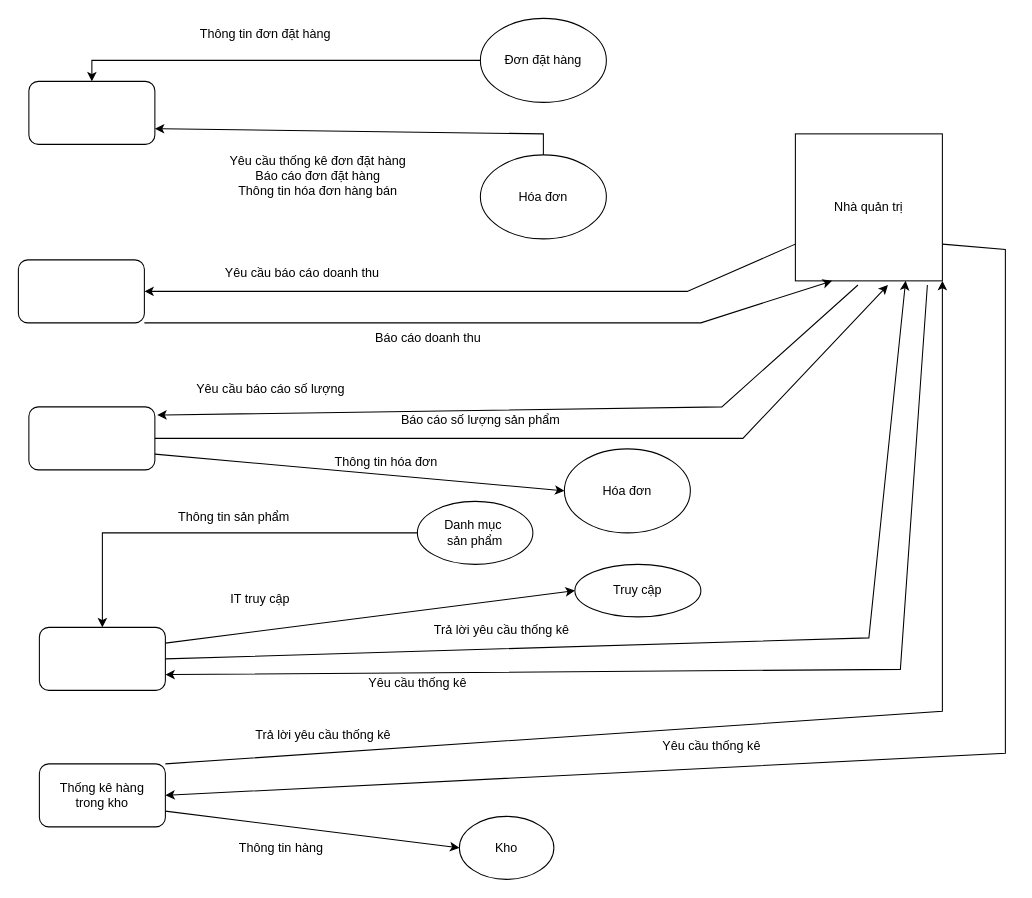
Some shapes in this 1032 by 898 pixel diagram are drawn without their labels. The shapes that lost their labels are listed below. From the top down, each one's centre as x and y in pixels, then its label:
pixel 91 112: Thống kê đơn đặt hàng
pixel 80 291: Thống kê doanh thu
pixel 91 438: Thống kê số lượng
pixel 101 658: Thống kê số người truy cập
